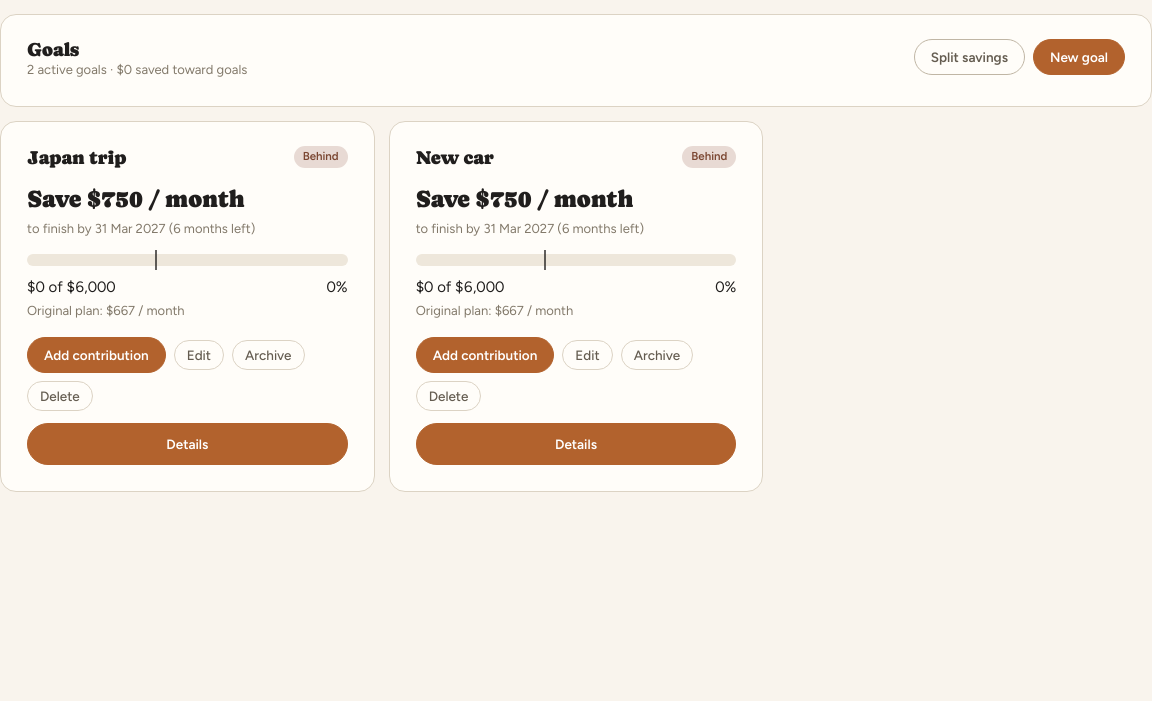
Test case: Split savings › caps the percentages at 100 with an inline error and asks for no preview or split
The width and height of the screenshot is (1152, 701).
Click the button "Split savings": (969, 57) [914,39,1025,75]
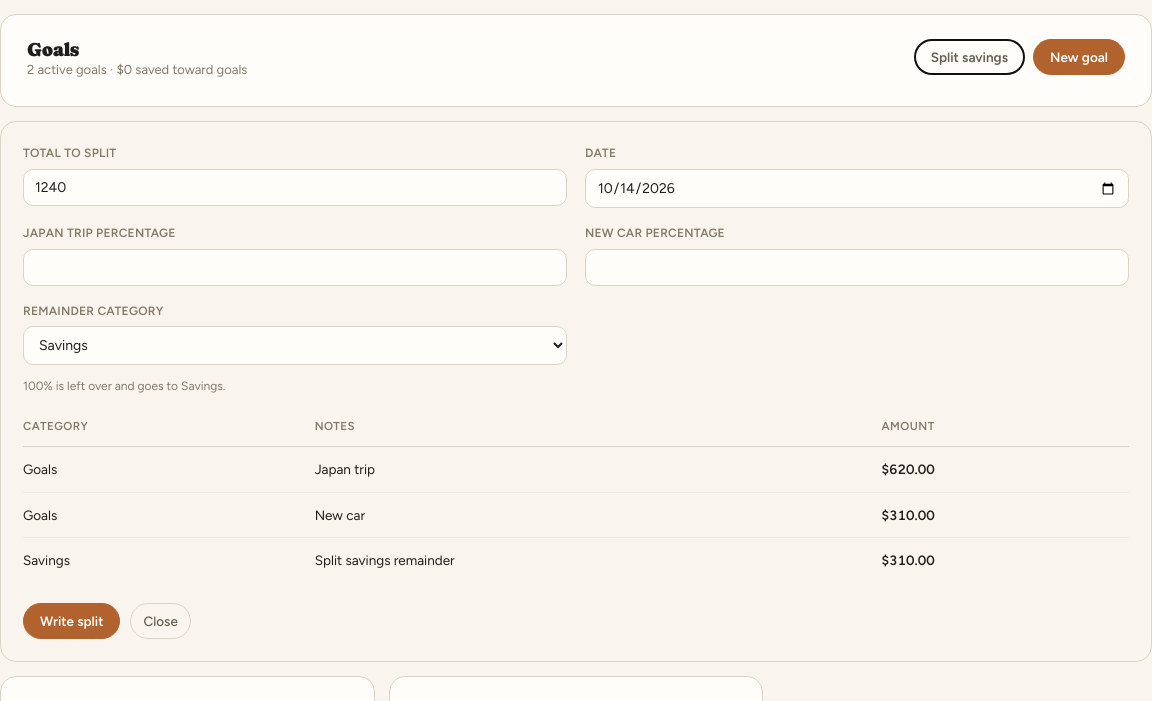
In the number field labelled "Japan trip percentage": (295, 267) [23,249,567,286], type "70"
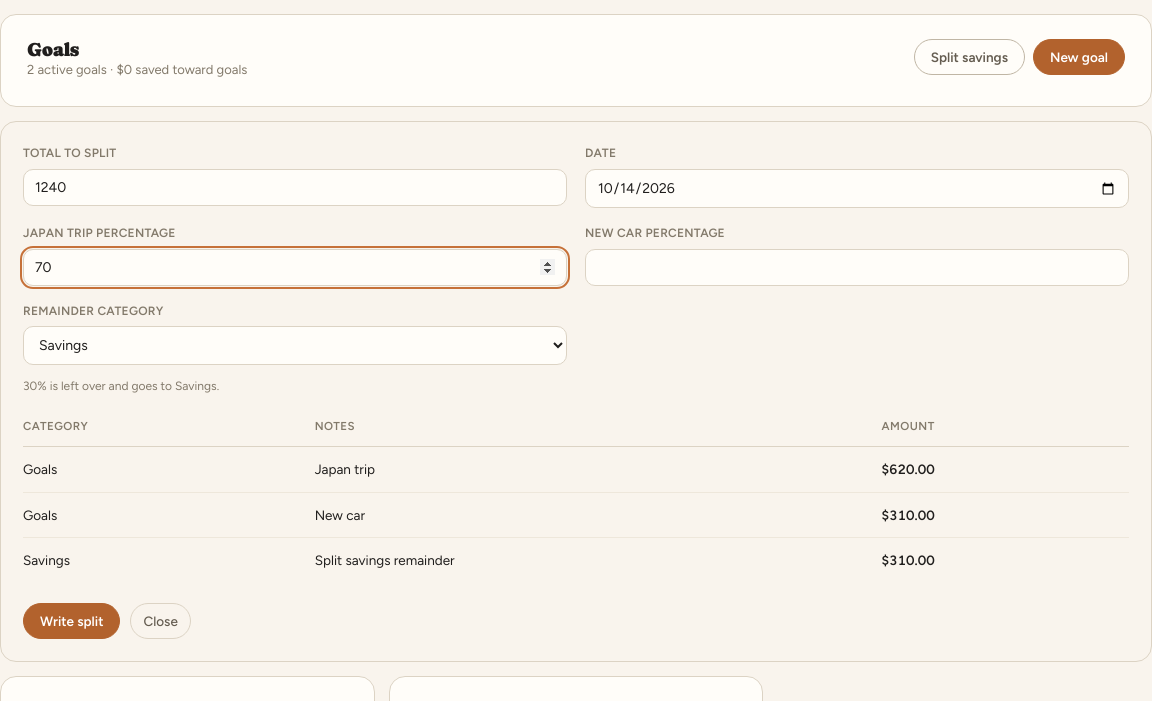
In the number field labelled "New car percentage": (857, 267) [585,249,1129,286], type "40"
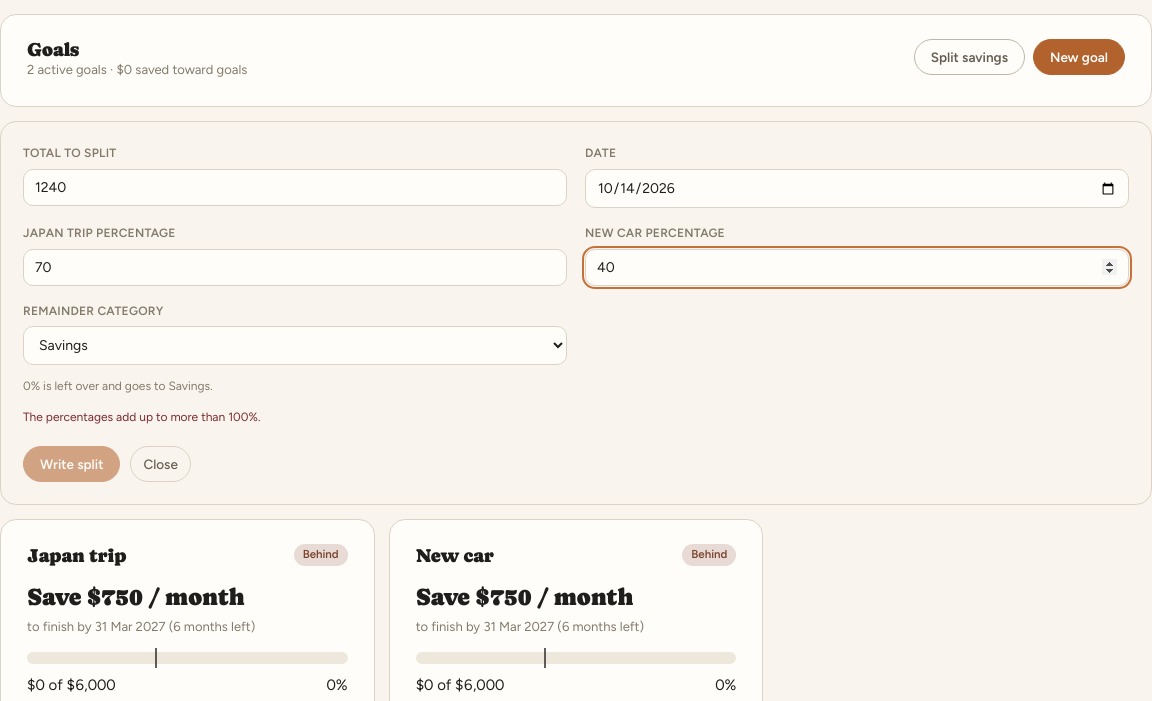
Result: the message shows "more than 100%" at [23,410,260,424]
Result: the button "Write split" is disabled at [23,446,120,482]
